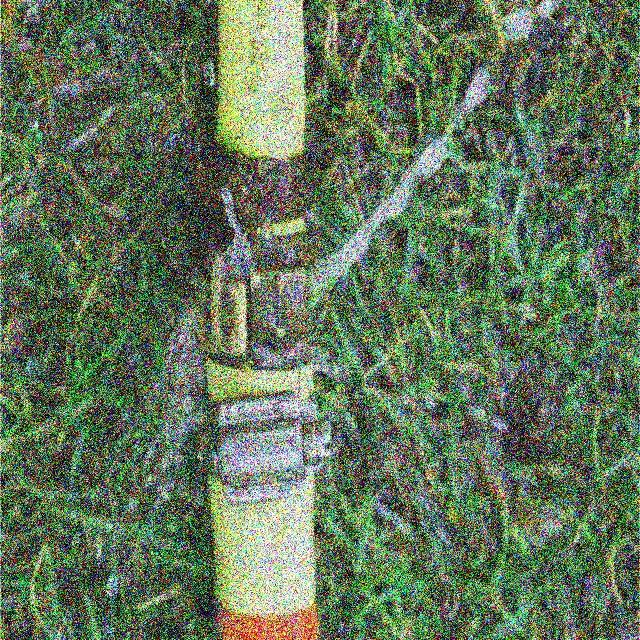Leak: (298, 248, 343, 306)
